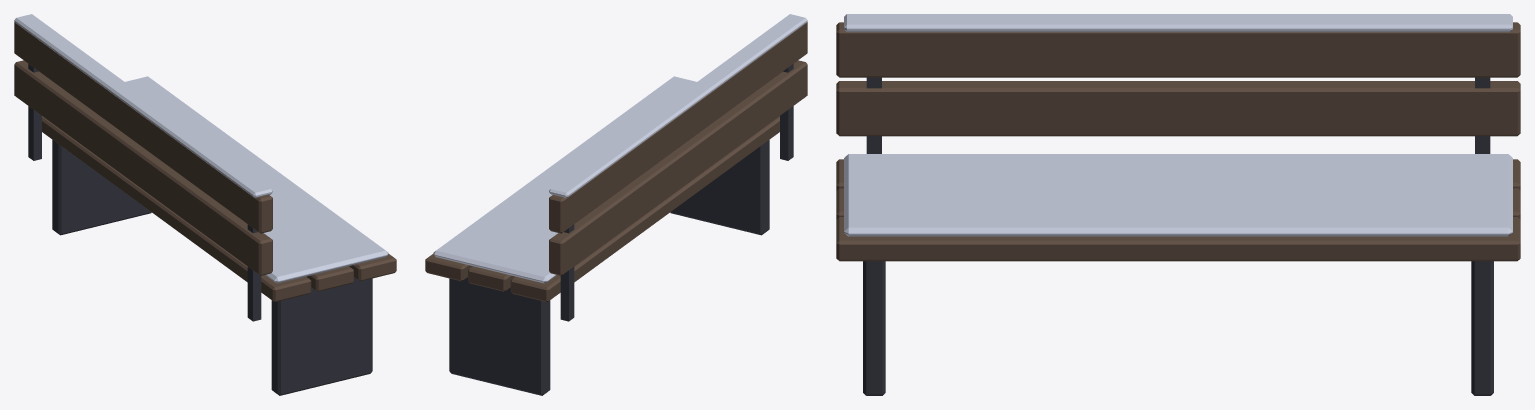
File: bench.glb
The picture shows the model from 3 angles, left to right: view 1: azimuth 30°, elevation 25°; view 2: azimuth 150°, elevation 25°; view 3: azimuth 270°, elevation 25°; orthographic projection. The views are drawn at different scales.
Parts seen in each view (by area): view 1: bench_wood, bench_metal, bench_snow; view 2: bench_wood, bench_metal, bench_snow; view 3: bench_wood, bench_snow, bench_metal.
Part boxes in pixels (box(x1,y1,x2,y2)): bench_wood: box(14, 22, 396, 302); bench_metal: box(28, 64, 372, 395); bench_snow: box(14, 14, 388, 283); bench_wood: box(425, 22, 807, 302); bench_metal: box(449, 64, 793, 395); bench_snow: box(433, 14, 807, 283); bench_wood: box(836, 22, 1520, 261); bench_snow: box(844, 14, 1512, 236); bench_metal: box(863, 77, 1493, 395).
Size of the model in its own units: 0.592 by 0.869 by 1.8.
